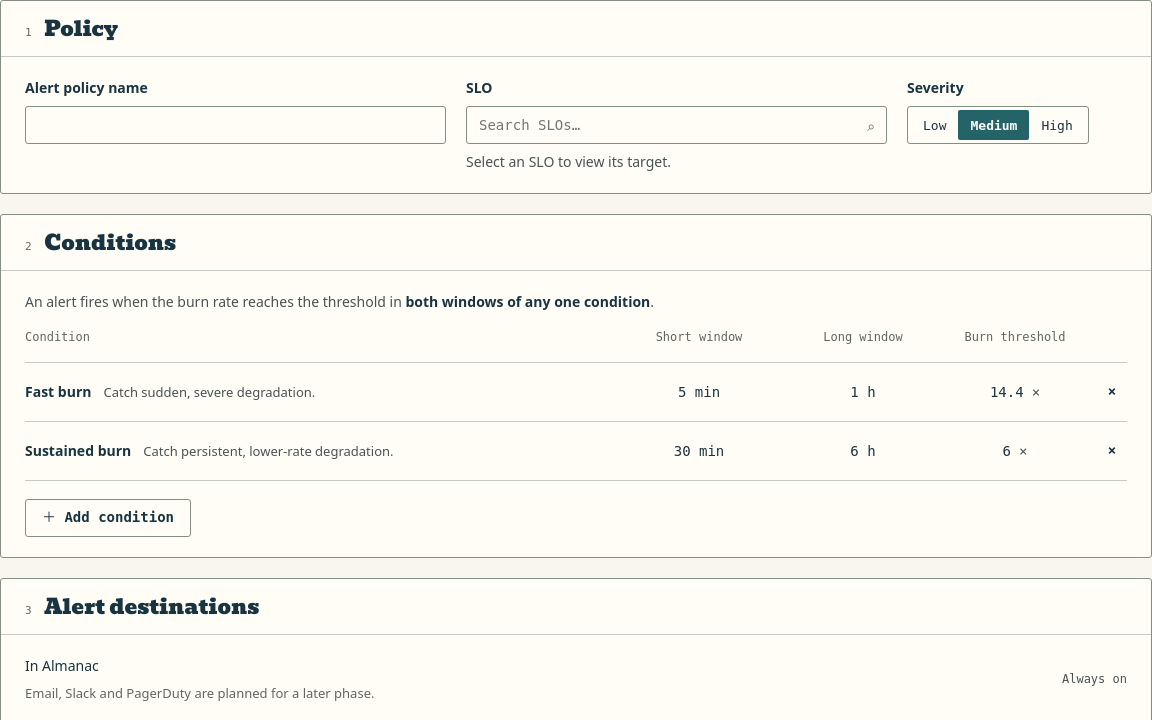
Test: approved alert policy form › edits duration text with units, cancels with Escape, and keeps a reachable keyboard position
The width and height of the screenshot is (1152, 720).
Click the button with aria-label "Edit short window for Fast burn" at (699, 392), box [627,373,771,411]
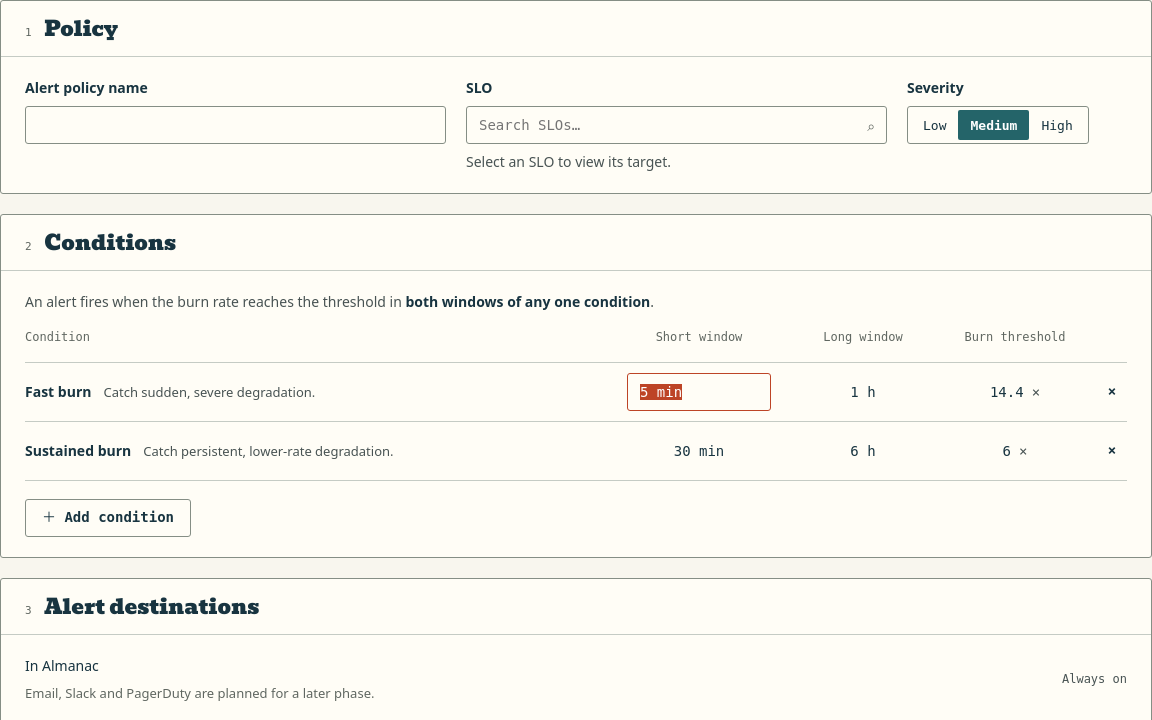
Replace the text in the field named "Short window for Fast burn" with "10 minutes" at (699, 392), box [640,374,758,410]
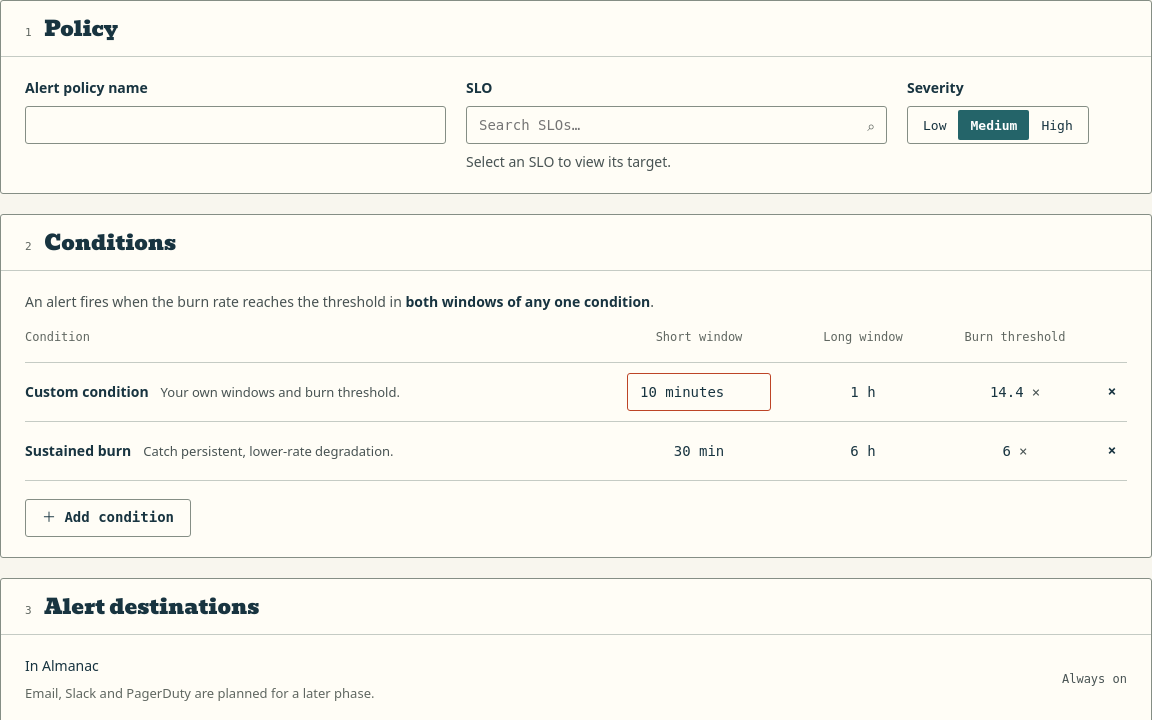
Press Enter
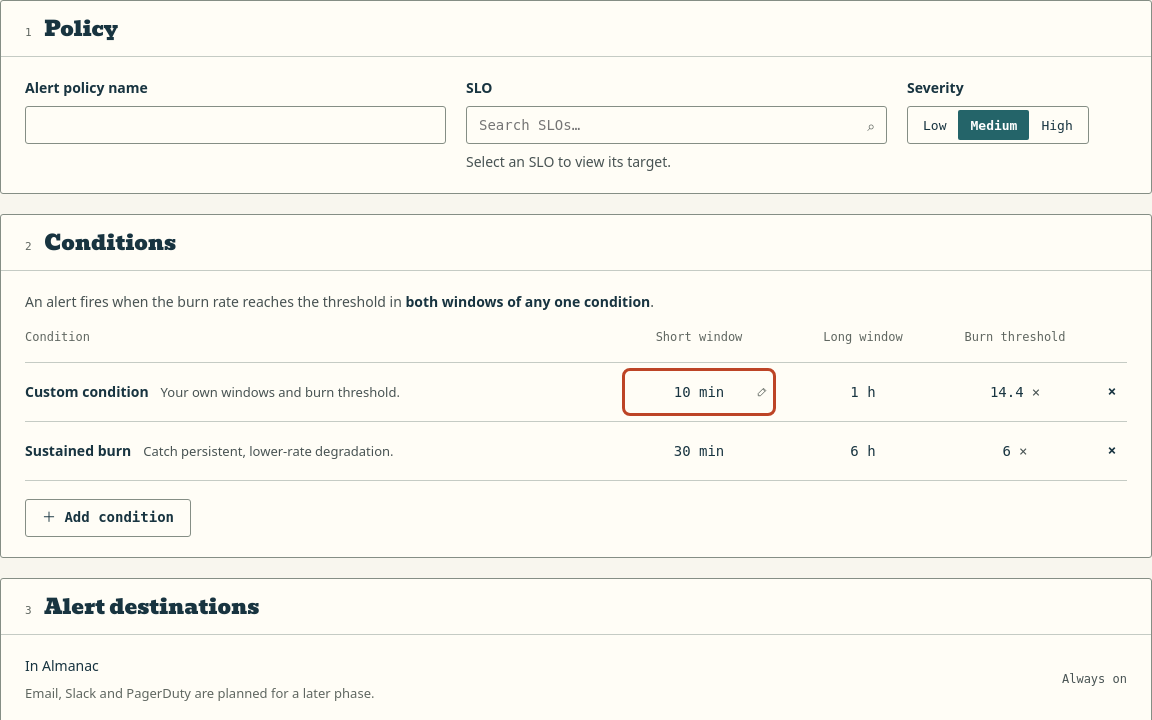
expect the button with aria-label "Edit short window for Custom condition" reads "10 min": met, box [627,373,771,411]
Click the button named "Edit long window for Custom condition" at (863, 392), box [791,373,935,411]
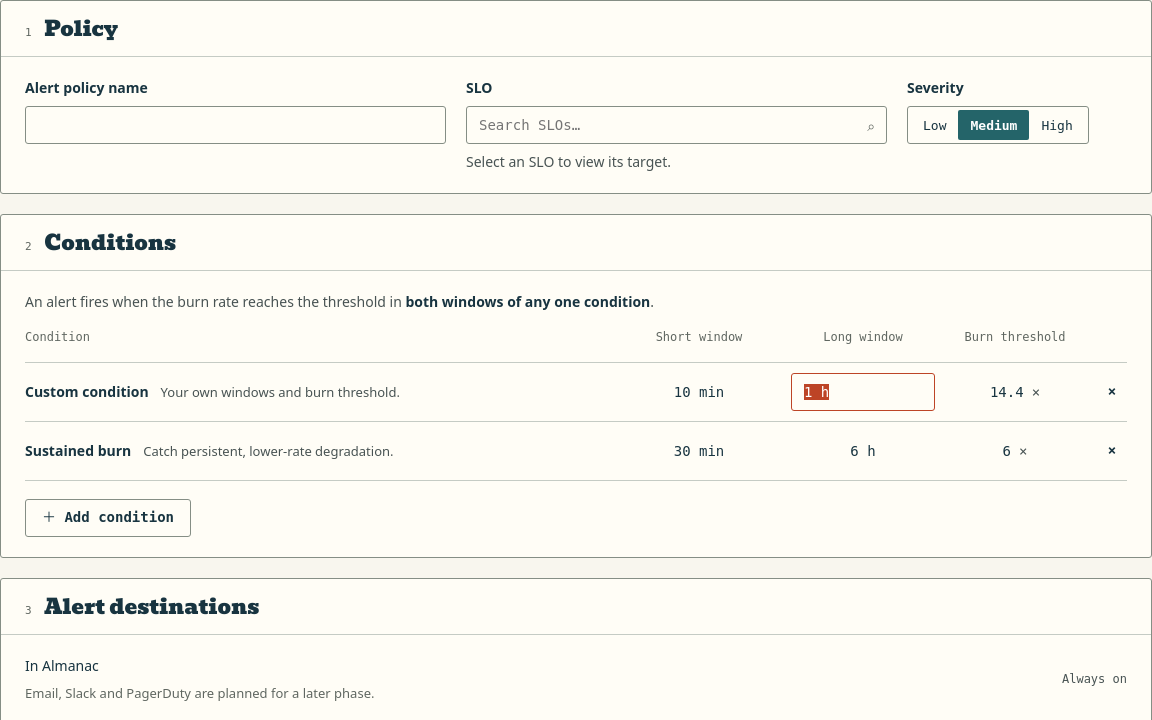
Replace the text in the field named "Long window for Custom condition" with "2 days" at (863, 392), box [804,374,922,410]
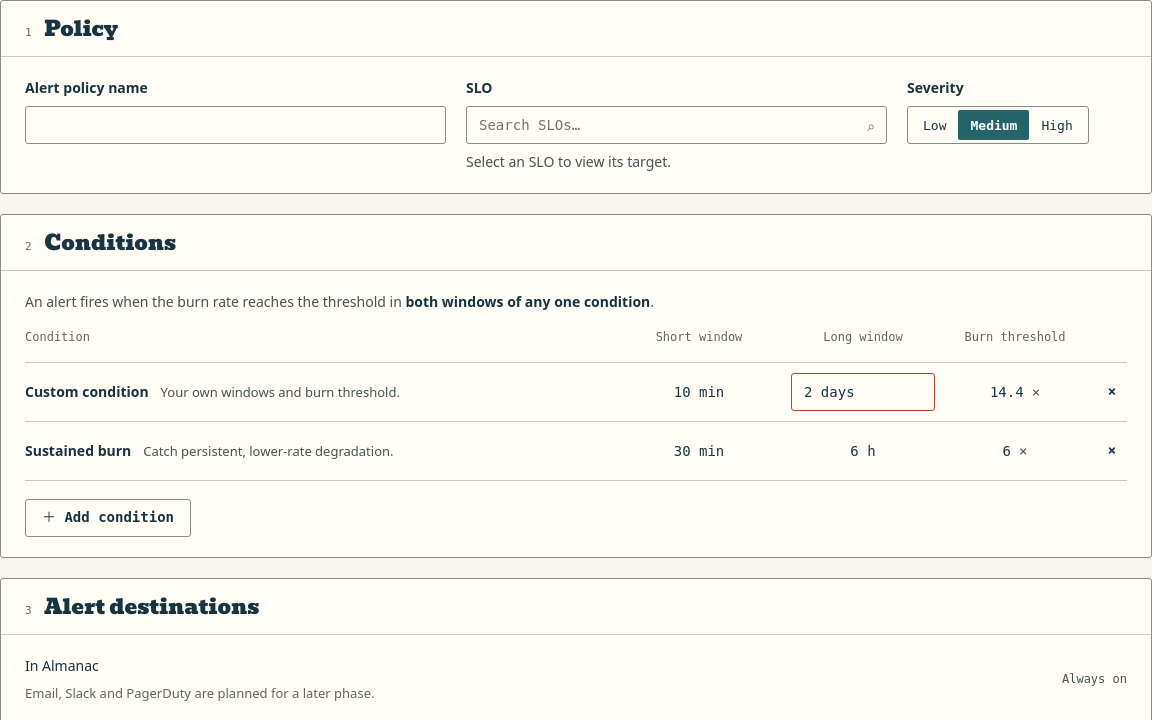
Press Escape
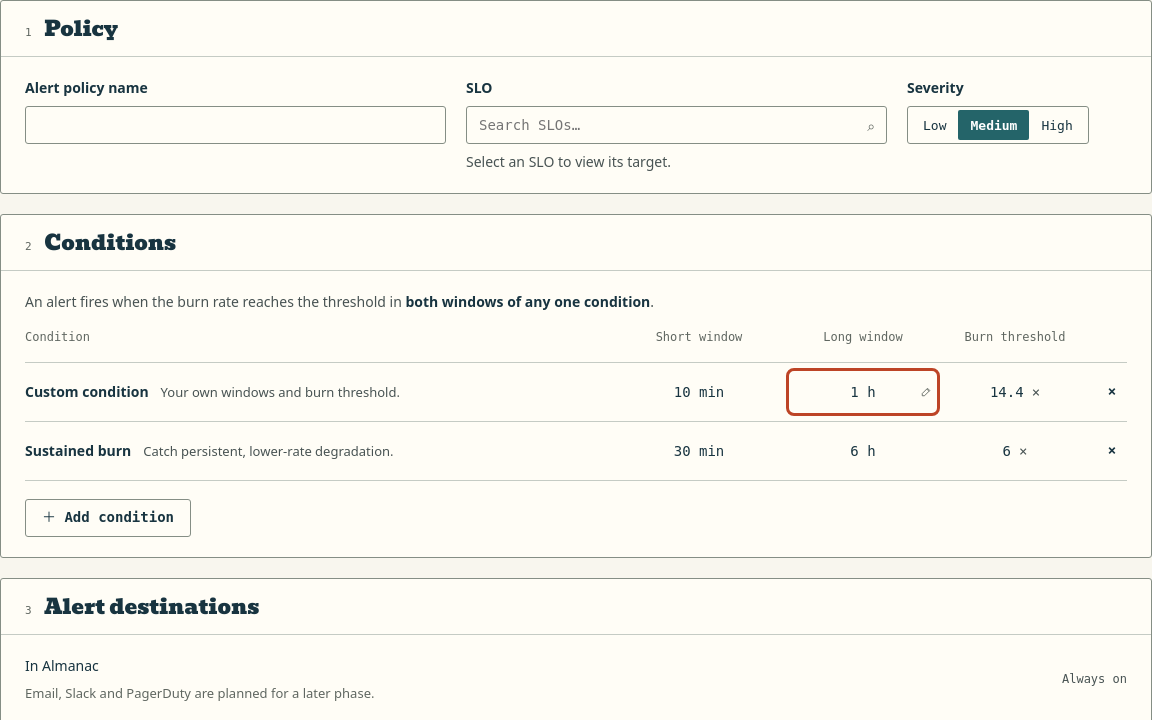
expect the button named "Edit long window for Custom condition" reads "1 h": met, box [791,373,935,411]
